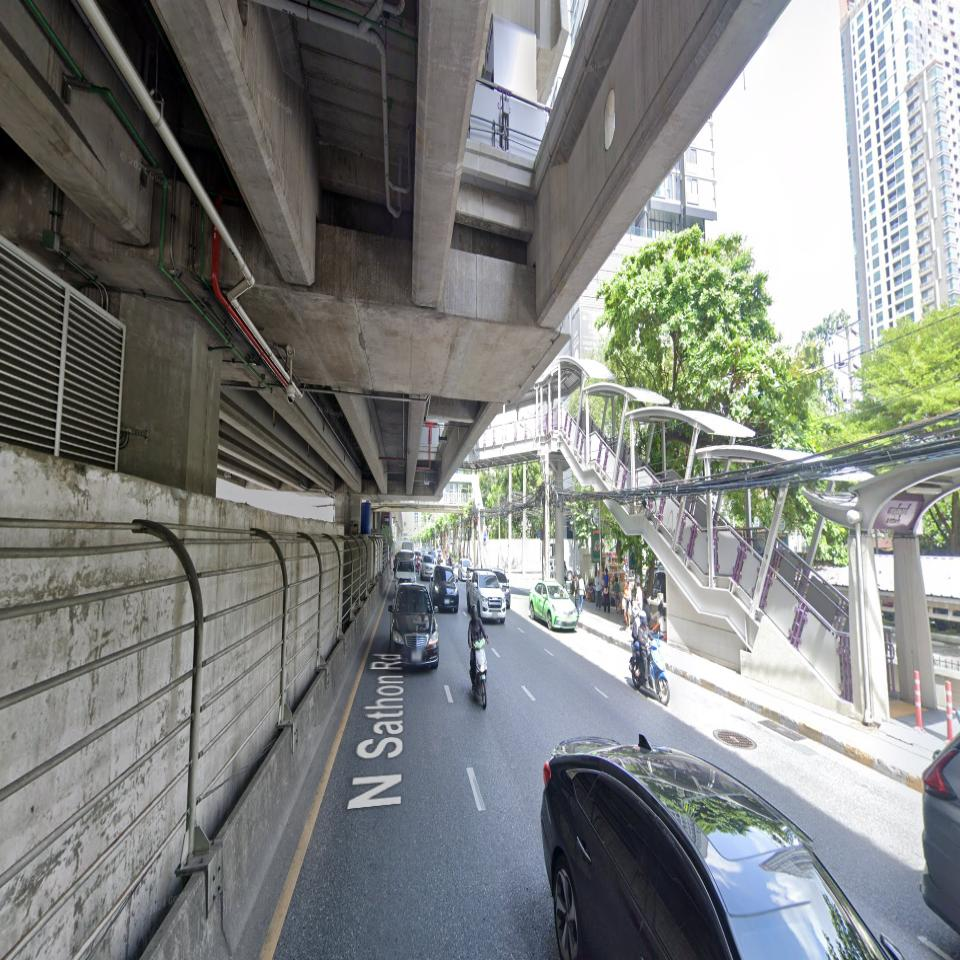signage: (872, 498, 924, 533)
